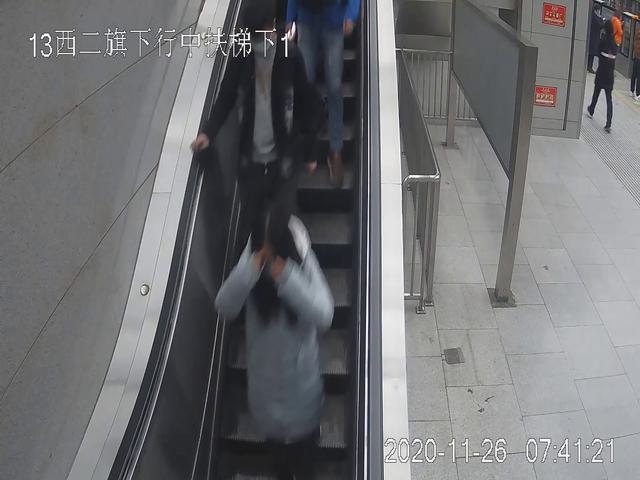person: (195, 1, 319, 298), (215, 209, 335, 480), (587, 21, 619, 133)
